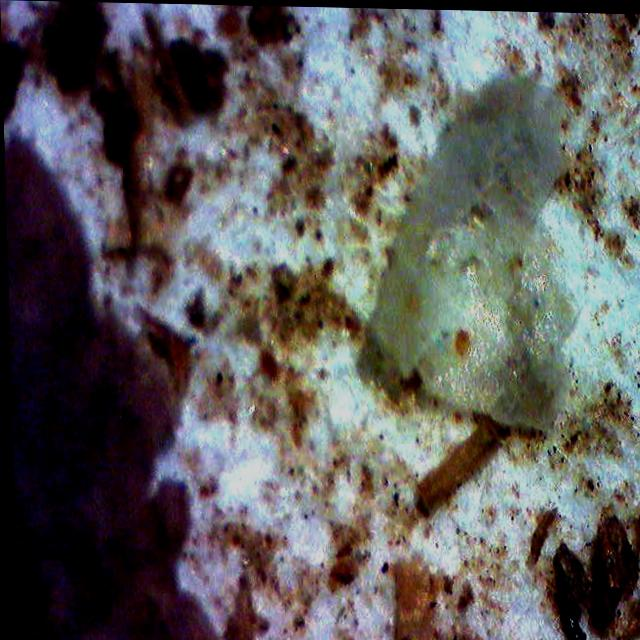microplastic: (362, 66, 583, 431)
